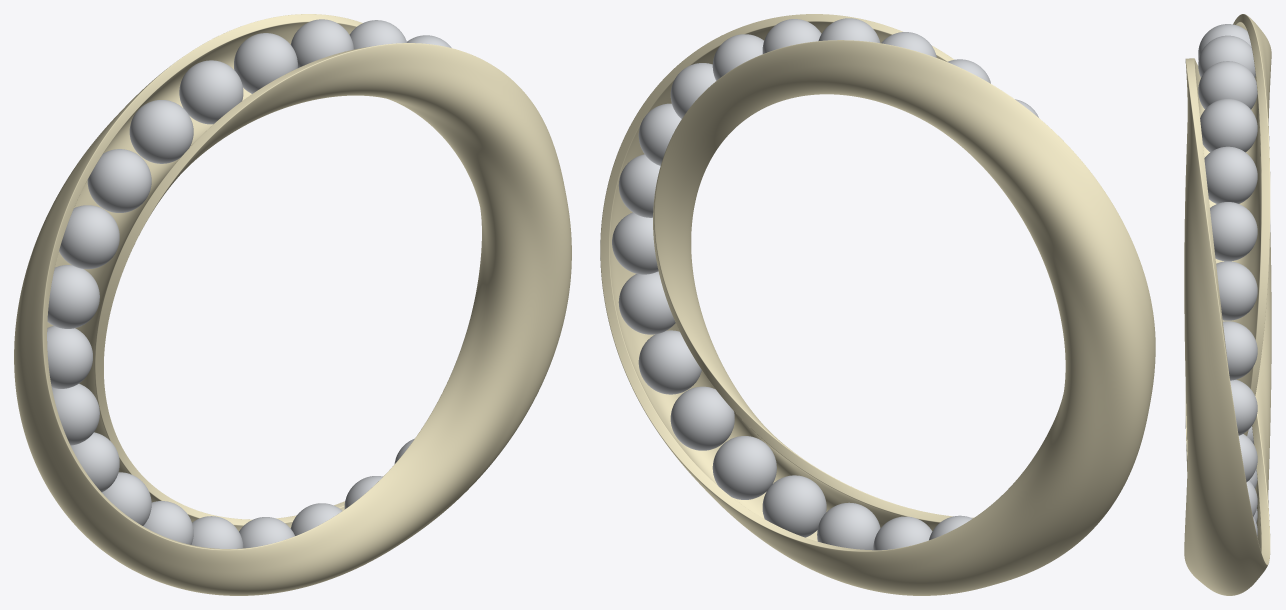
The model's file is ring.glb.
The picture shows the model from 3 angles, left to right: view 1: azimuth 30°, elevation 25°; view 2: azimuth 150°, elevation 25°; view 3: azimuth 270°, elevation 25°; orthographic projection. The views are drawn at different scales.
Parts seen in each view (by area): view 1: Gold shank - turning ribbon with solid backing, Silver bead 10, Silver bead 11, Silver bead 09, Silver bead 12, Silver bead 13, Silver bead 08, Silver bead 14, Silver bead 15, Silver bead 07, Silver bead 16, Silver bead 17 (+5 smaller); view 2: Gold shank - turning ribbon with solid backing, Silver bead 23, Silver bead 24, Silver bead 22, Silver bead 25, Silver bead 26, Silver bead 21, Silver bead 01, Silver bead 02, Silver bead 03, Silver bead 04, Silver bead 20 (+4 smaller); view 3: Gold shank - turning ribbon with solid backing, Silver bead 05, Silver bead 06, Silver bead 04, Silver bead 07, Silver bead 03, Silver bead 02, Silver bead 08, Silver bead 01, Silver bead 09, Silver bead 26, Silver bead 25.
Boxes of the visible parts, x1,y1,x2,y2 form: Gold shank - turning ribbon with solid backing: (14,14,571,595); Silver bead 10: (129,100,193,163); Silver bead 11: (87,149,151,212); Silver bead 09: (179,60,243,124); Silver bead 12: (59,205,119,269); Silver bead 13: (47,265,99,328); Silver bead 08: (234,33,297,93); Silver bead 14: (47,326,92,388); Silver bead 15: (52,383,99,445); Silver bead 07: (290,19,353,67); Silver bead 16: (71,432,119,492); Silver bead 17: (102,472,151,525); Gold shank - turning ribbon with solid backing: (600,14,1155,595); Silver bead 23: (712,436,776,499); Silver bead 24: (670,386,734,450); Silver bead 22: (762,475,826,537); Silver bead 25: (638,330,701,394); Silver bead 26: (618,271,675,334); Silver bead 21: (817,502,880,550); Silver bead 01: (612,212,658,274); Silver bead 02: (618,154,660,217); Silver bead 03: (638,103,681,165); Silver bead 04: (670,63,715,118); Silver bead 20: (873,516,932,550); Gold shank - turning ribbon with solid backing: (1184,14,1271,595); Silver bead 05: (1204,146,1257,203); Silver bead 06: (1200,99,1257,152); Silver bead 04: (1210,202,1257,261); Silver bead 07: (1198,61,1257,109); Silver bead 03: (1216,261,1257,320); Silver bead 02: (1223,321,1257,380); Silver bead 08: (1198,35,1255,77); Silver bead 01: (1230,379,1257,435); Silver bead 09: (1198,24,1251,59); Silver bead 26: (1238,434,1257,482); Silver bead 25: (1246,480,1257,516).
Size of the model in its own units: 3.03 by 2.97 by 0.4548.
